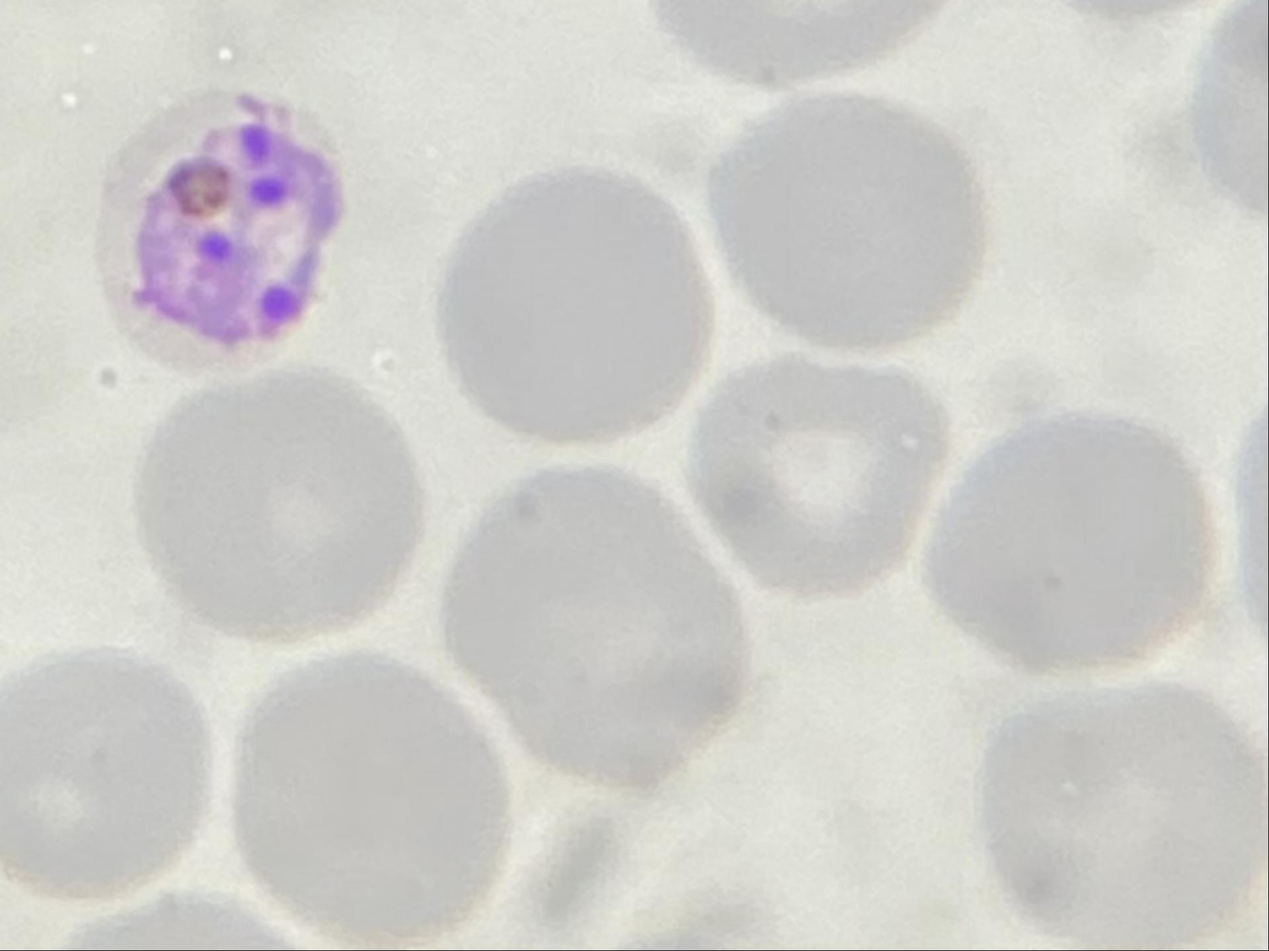Infected: (93, 87, 345, 370)
Uninfected: (441, 472, 743, 783), (240, 653, 507, 944), (983, 681, 1269, 951), (441, 164, 720, 440), (128, 373, 419, 637), (921, 410, 1207, 677), (709, 93, 991, 356), (683, 360, 949, 606), (0, 648, 210, 896)
